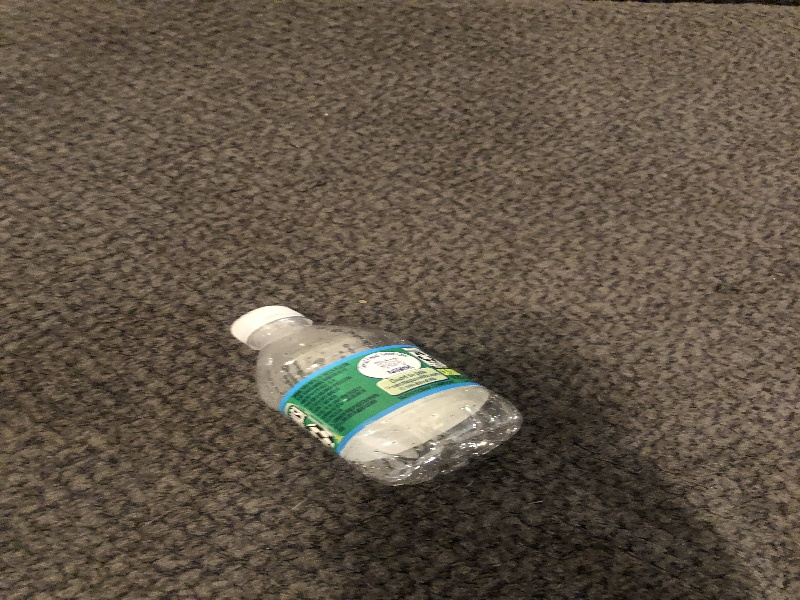plastic: (223, 298, 526, 491)
